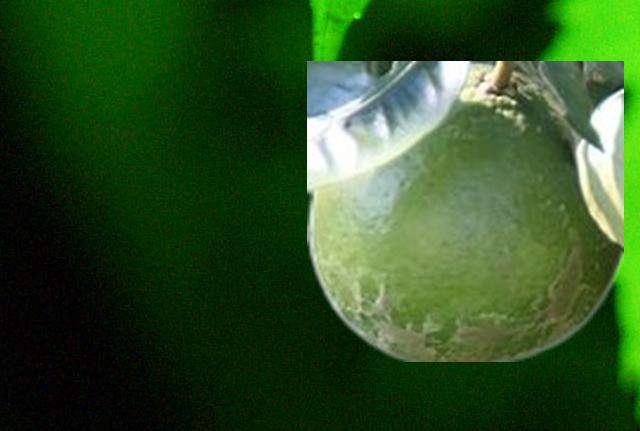dalandan: (307, 61, 622, 360)
